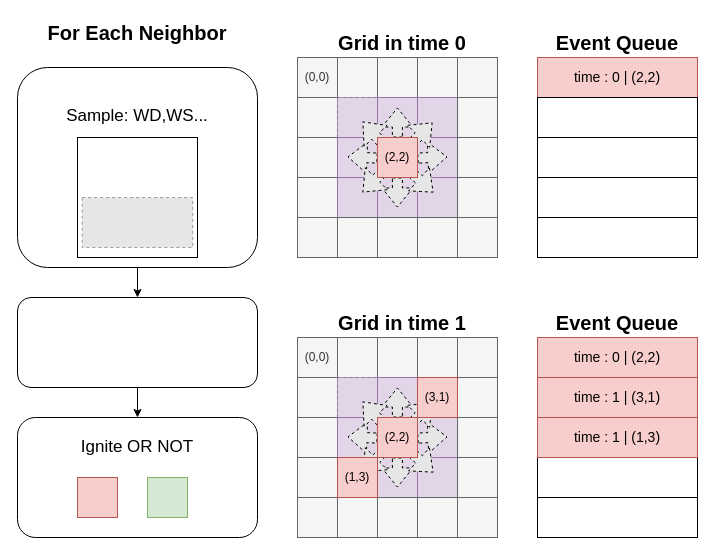
Image size: 715x555. Some labels were removed from this diagram. Grey dashed boxes stand in for pictures. Each missing label, with the box of its shape:
burning with changed outer conditions: (76, 136, 198, 258)
Probability > Threshold ?: (16, 296, 258, 388)
